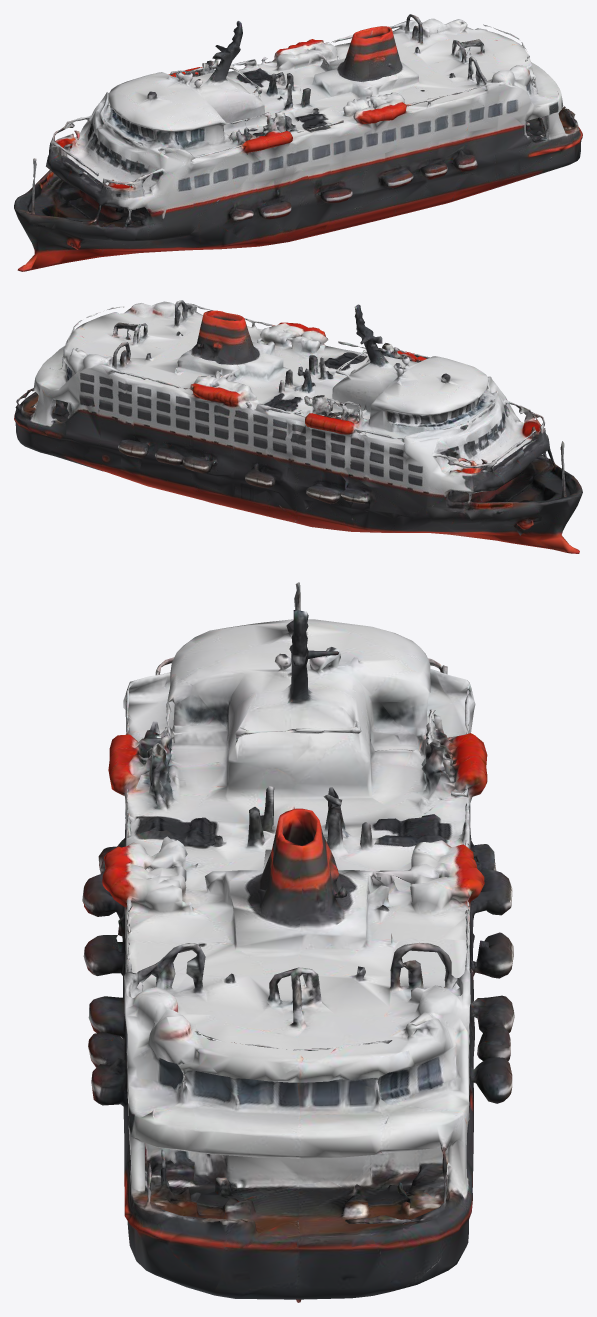
The model's file is passenger.glb.
3 renders of one model, top to bottom at view 1: azimuth 30°, elevation 25°; view 2: azimuth 150°, elevation 25°; view 3: azimuth 270°, elevation 25°, orthographic. The views are drawn at different scales.
Bounding box in the file's own units: 2 × 0.7101 × 0.6929.
1 material, 1 textured.
